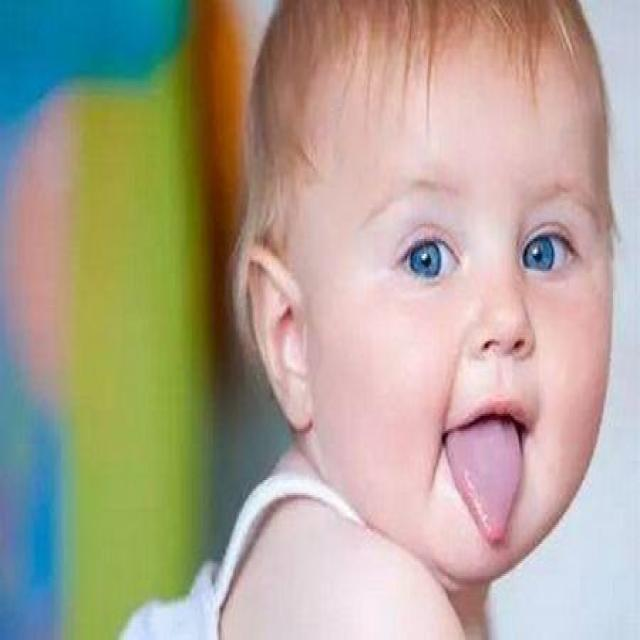tongue: (440, 417, 526, 551)
